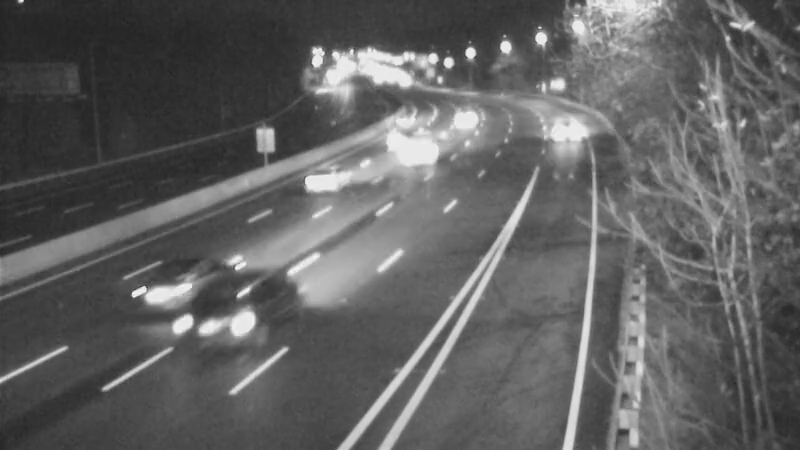vehicle: (149, 273, 259, 383), (276, 139, 356, 219), (116, 252, 196, 332), (439, 100, 489, 150), (376, 94, 426, 144), (535, 104, 585, 154), (386, 121, 436, 171)
